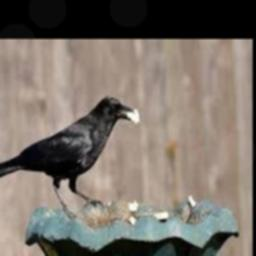Crow: (0, 95, 139, 217)
